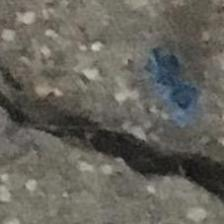Crack: (0, 3, 224, 224)
